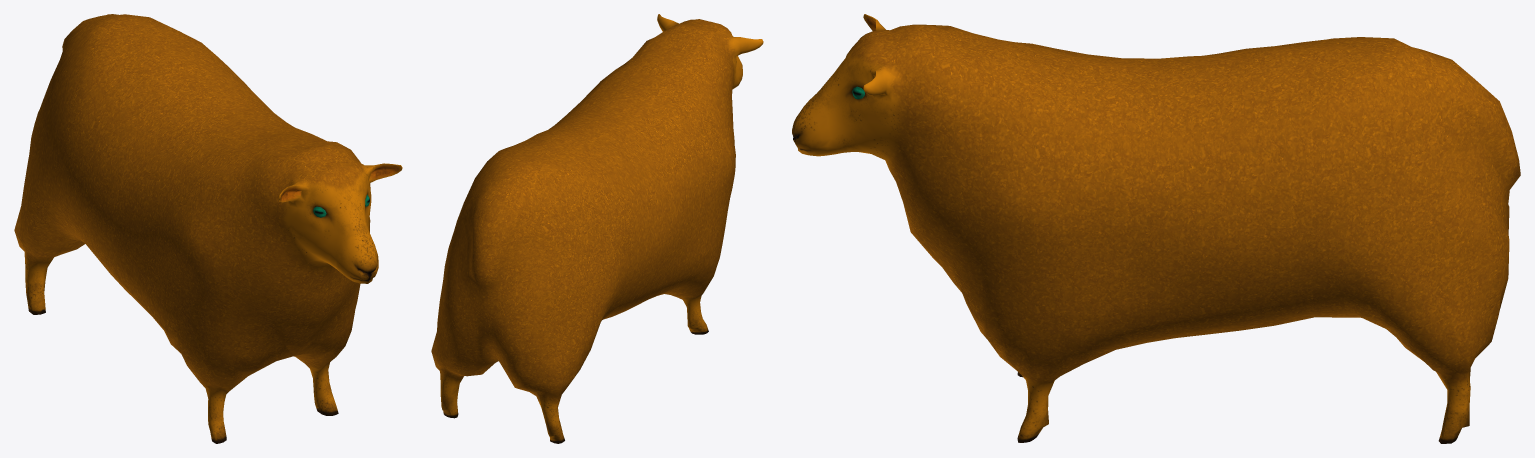
File: Sheep.glb
3 renders of one model, left to right at view 1: azimuth 30°, elevation 25°; view 2: azimuth 150°, elevation 25°; view 3: azimuth 270°, elevation 25°, orthographic. The views are drawn at different scales.
Visible parts, largest first — view 1: Sheep__0; view 2: Sheep__0; view 3: Sheep__0.
Part boxes in pixels (<box>): Sheep__0: <box>14,14,402,443</box>; Sheep__0: <box>431,14,763,443</box>; Sheep__0: <box>792,14,1520,443</box>.
Bounding box in the file's own units: 1.63 × 2.51 × 4.4.
1 material, 1 textured.
